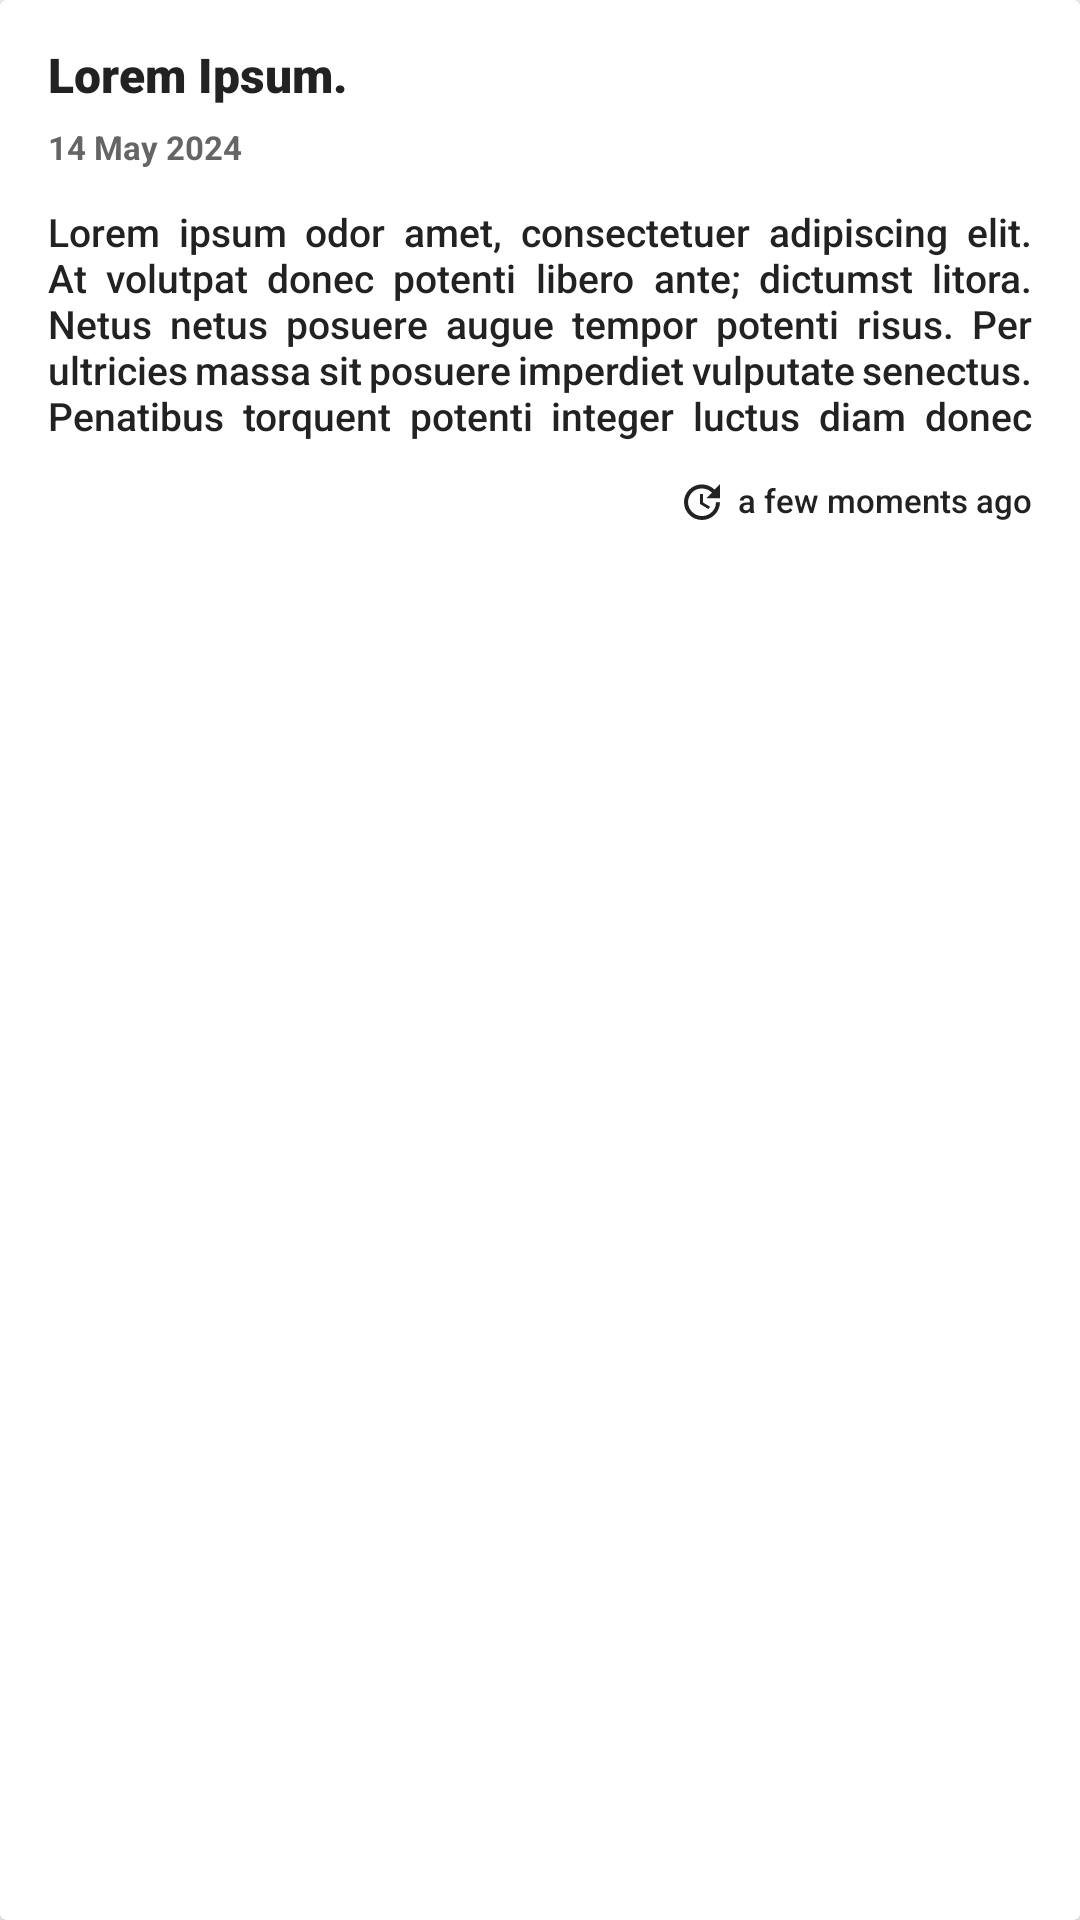

Screen size 1080px x 1920px. Icon name, then its center in pixels as (x=x, y=y):
update: (x=702, y=502)
